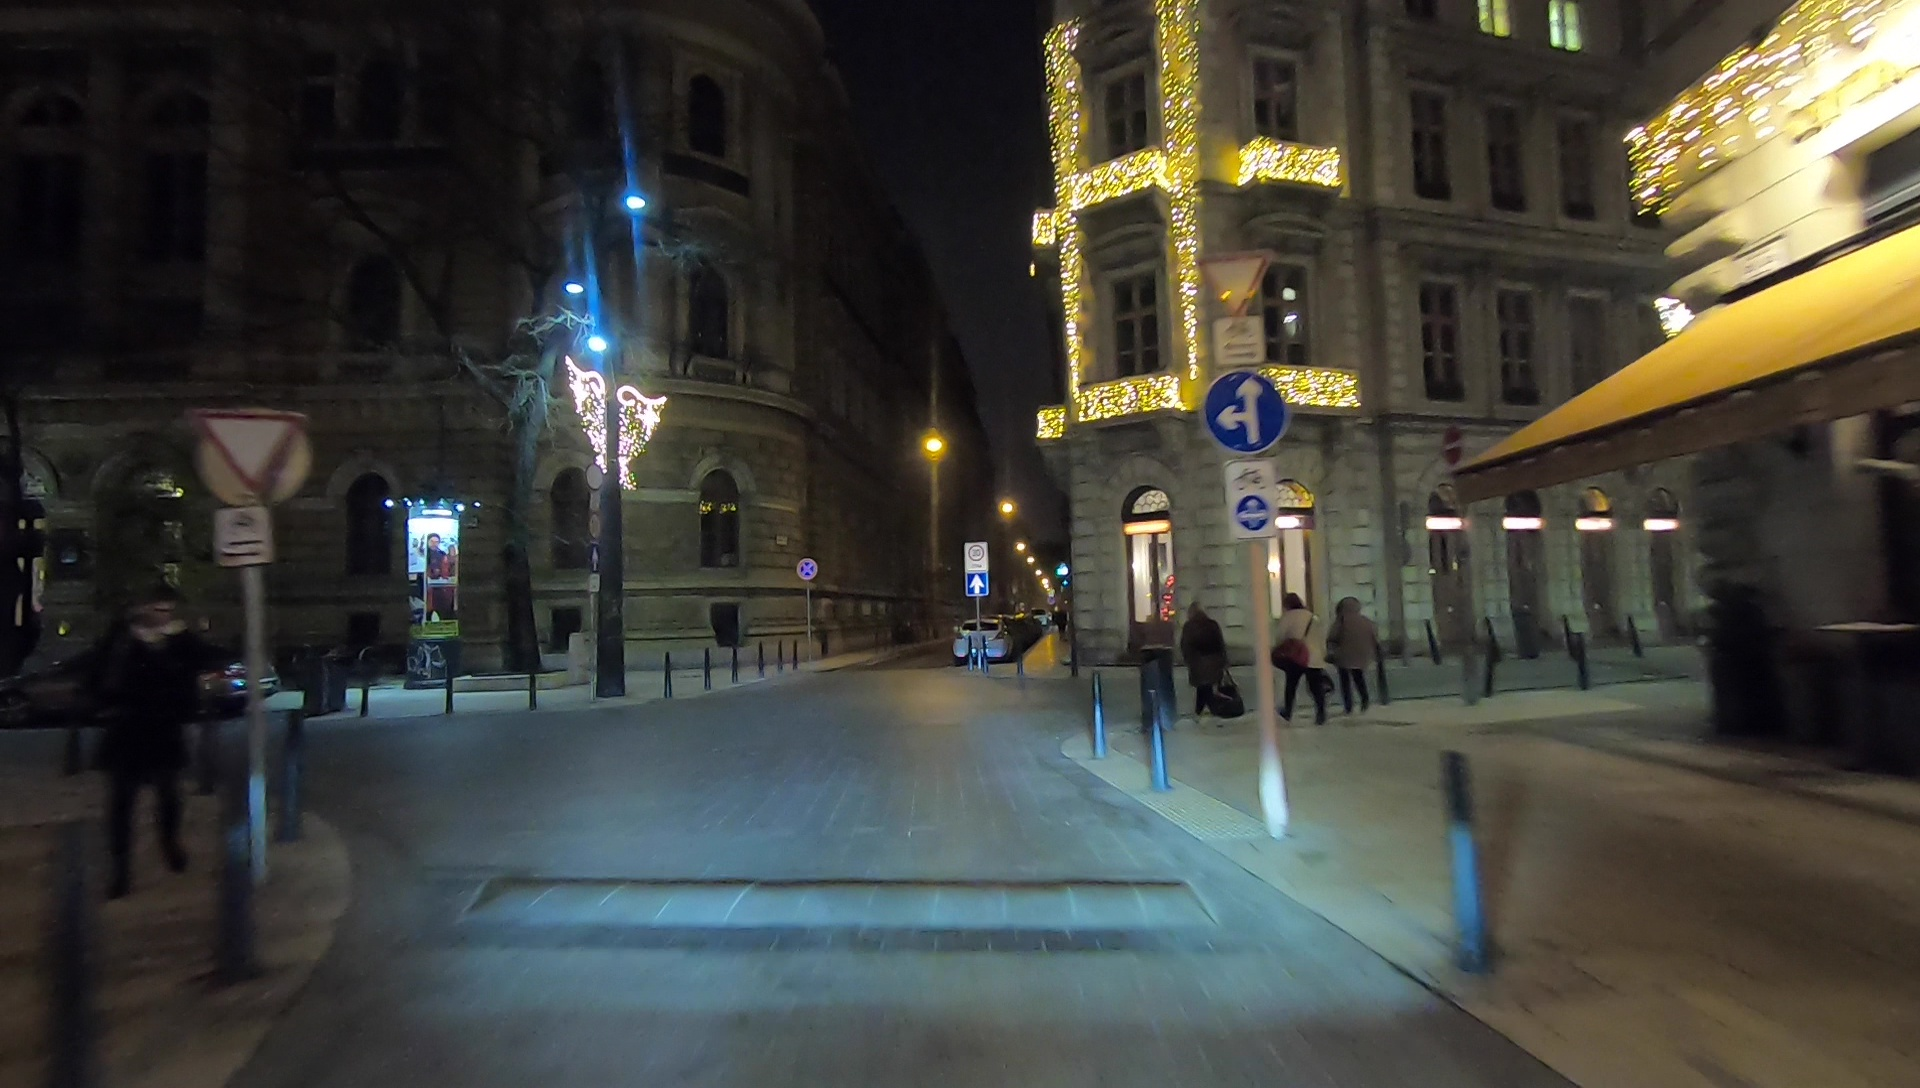person: (84, 578, 214, 891), (1271, 589, 1338, 726), (1180, 599, 1241, 724), (1128, 597, 1176, 736), (1332, 597, 1375, 710)
